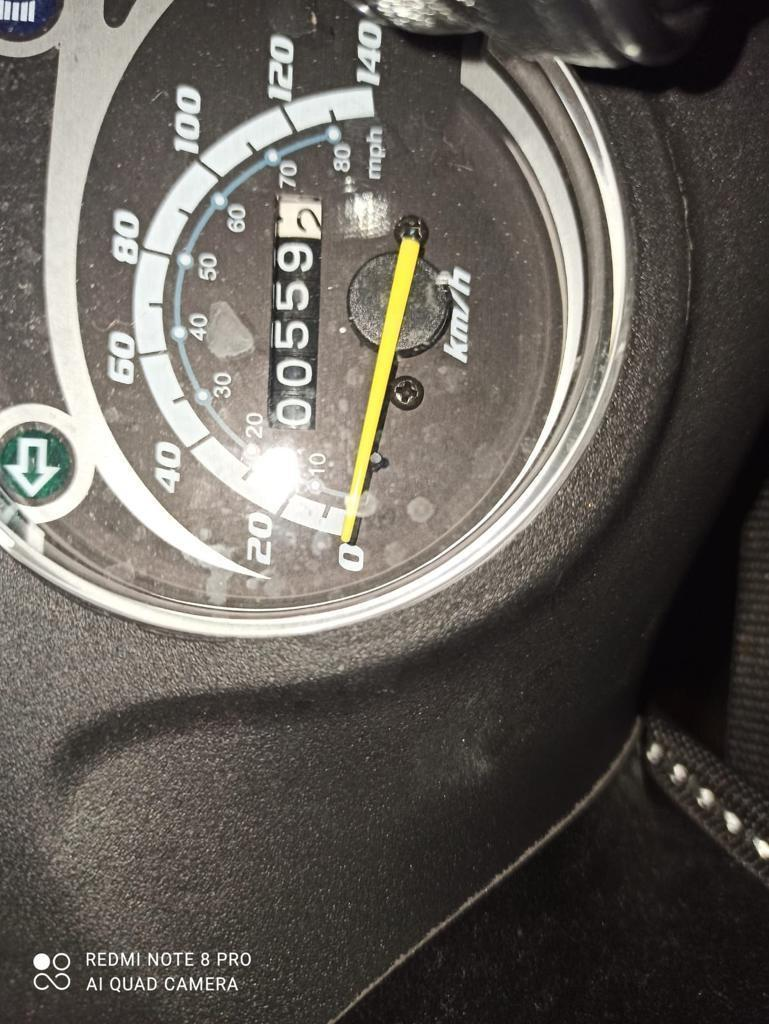0: (273, 357, 316, 389), (273, 395, 313, 427)
2: (293, 202, 327, 235)
5: (271, 279, 313, 312), (270, 319, 309, 350)
9: (273, 241, 315, 273)
odometer: (261, 187, 334, 426)
